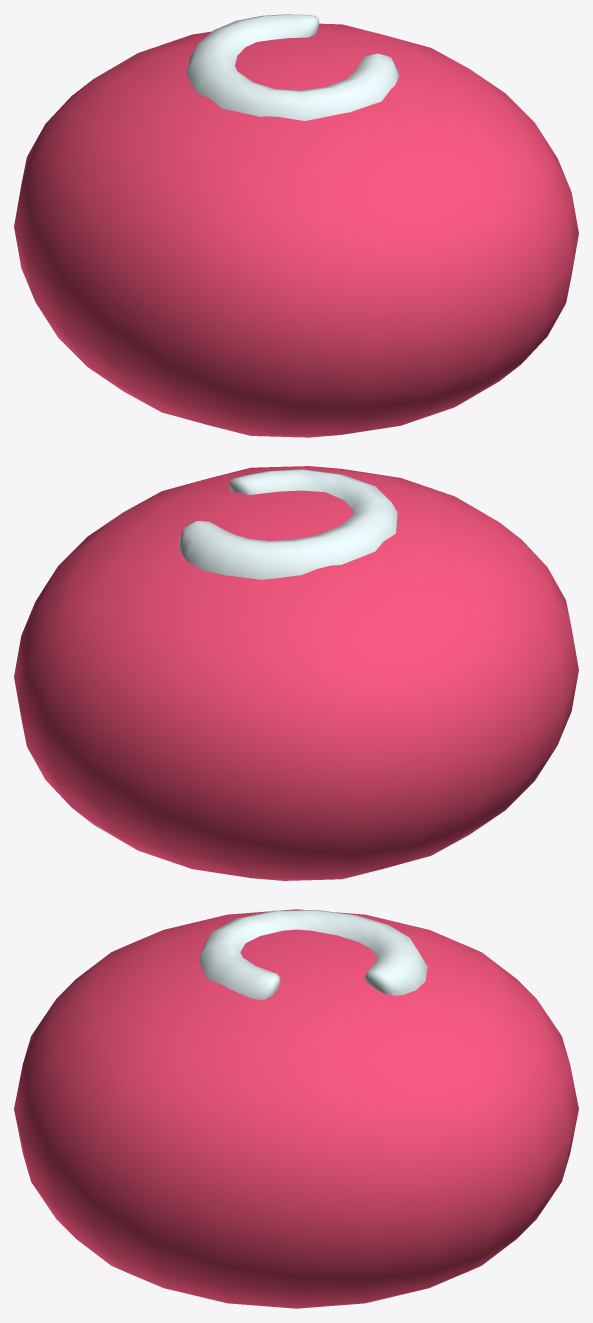
The model's file is Candy_D_01.fbx.
3 views of the same model, one above another, from view 1: azimuth 30°, elevation 25°; view 2: azimuth 150°, elevation 25°; view 3: azimuth 270°, elevation 25° (orthographic). The views are drawn at different scales.
Visible parts, largest first — view 1: Candy_D_01_LOD0; view 2: Candy_D_01_LOD0; view 3: Candy_D_01_LOD0.
Boxes of the visible parts, bbox=[...] form: Candy_D_01_LOD0: bbox=[14, 14, 578, 437]; Candy_D_01_LOD0: bbox=[14, 466, 578, 880]; Candy_D_01_LOD0: bbox=[14, 909, 578, 1308].
Size of what is drawn, in the model's own units: 313 by 210 by 330.
